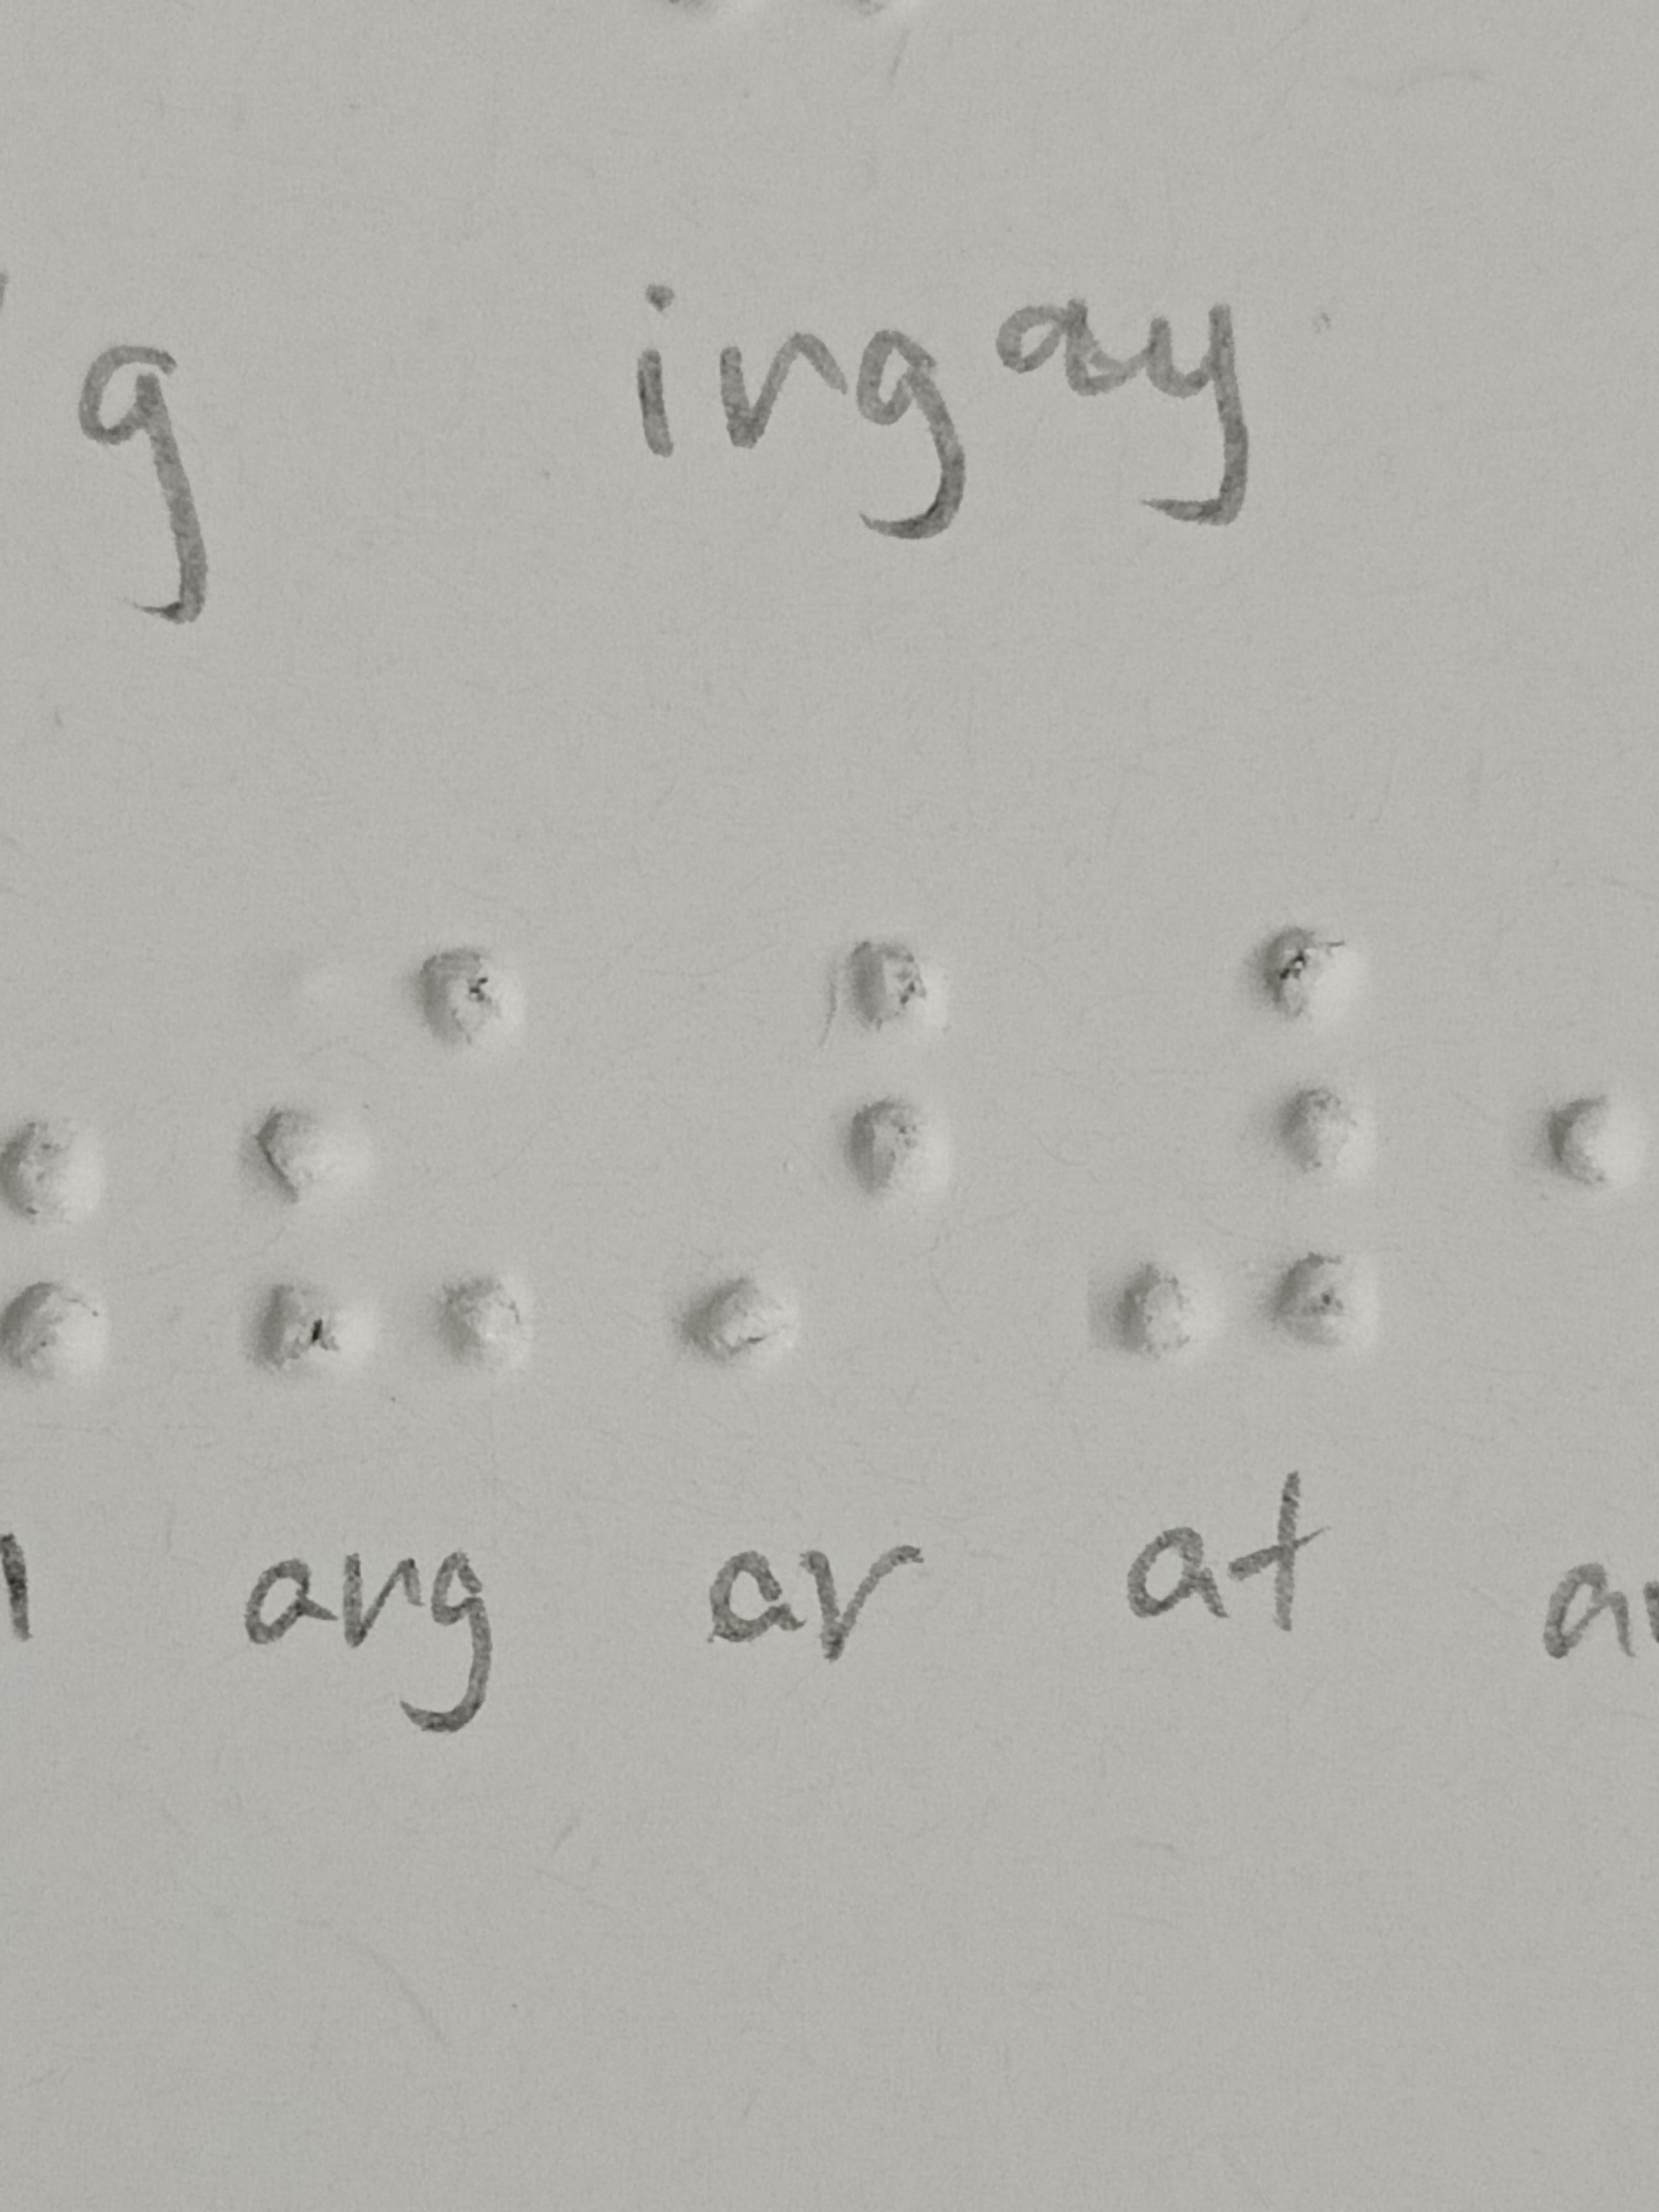one_cell_part_word_ang: (244, 930, 526, 1392)
one_cell_part_word_ar: (671, 925, 951, 1388)
one_cell_part_word_at: (1112, 914, 1363, 1366)
